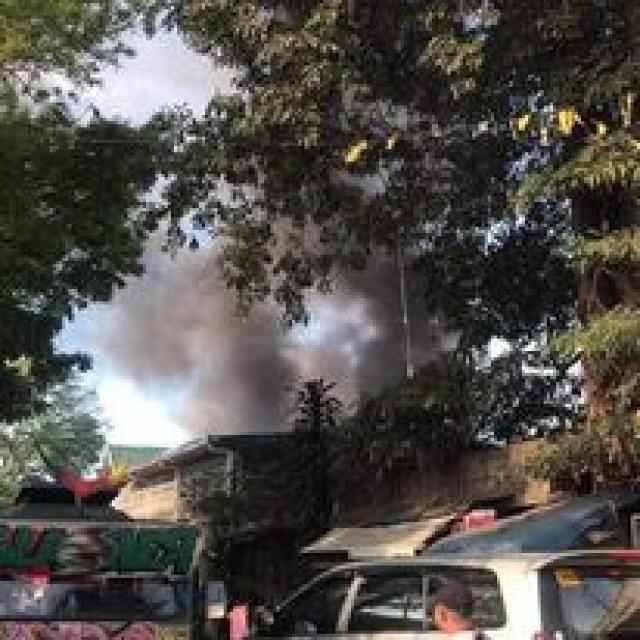Smoke: (98, 216, 309, 437), (335, 236, 473, 404)
